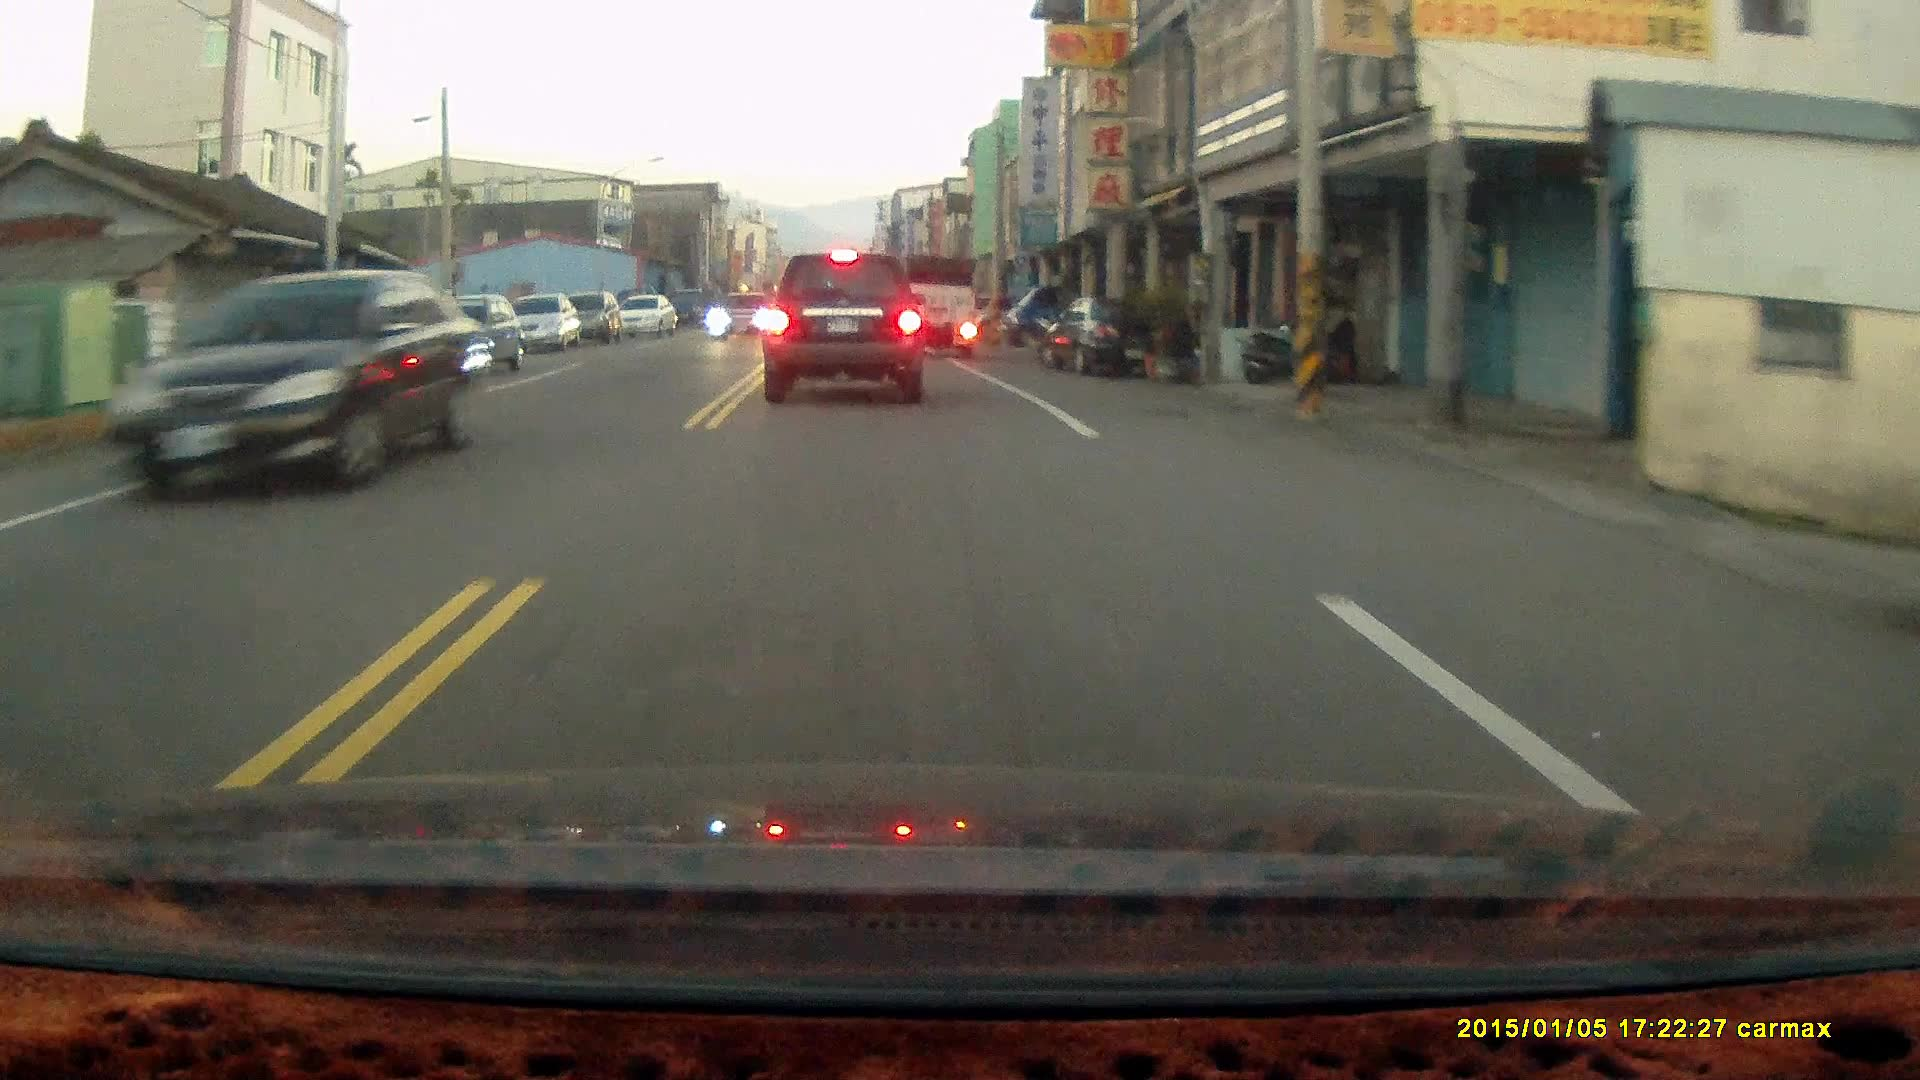vehicle: (105, 270, 487, 502), (762, 249, 926, 405), (1044, 295, 1182, 377), (402, 293, 525, 381), (895, 255, 982, 364), (1004, 280, 1106, 348), (504, 294, 582, 352), (553, 291, 624, 344), (707, 291, 778, 342), (615, 295, 680, 339)
